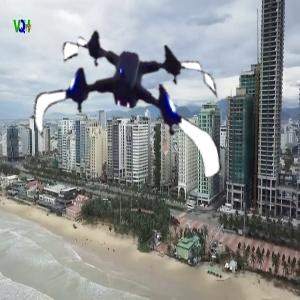drone: (29, 3, 222, 196)
